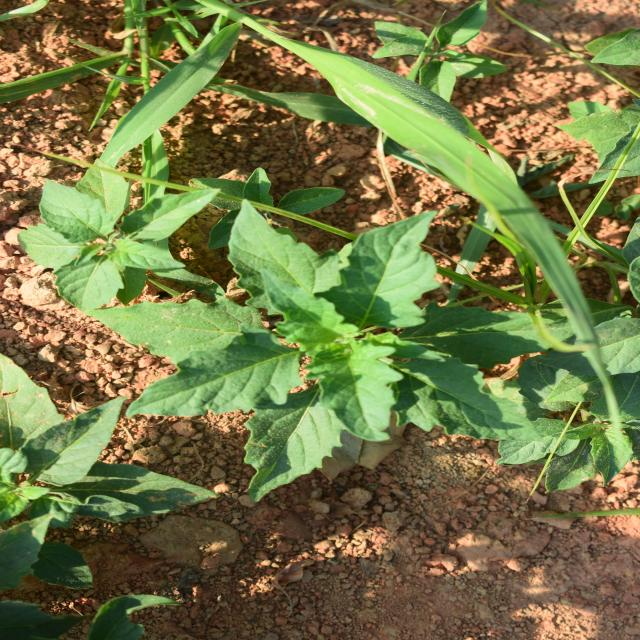Black_nightshade: (164, 141, 434, 474)
